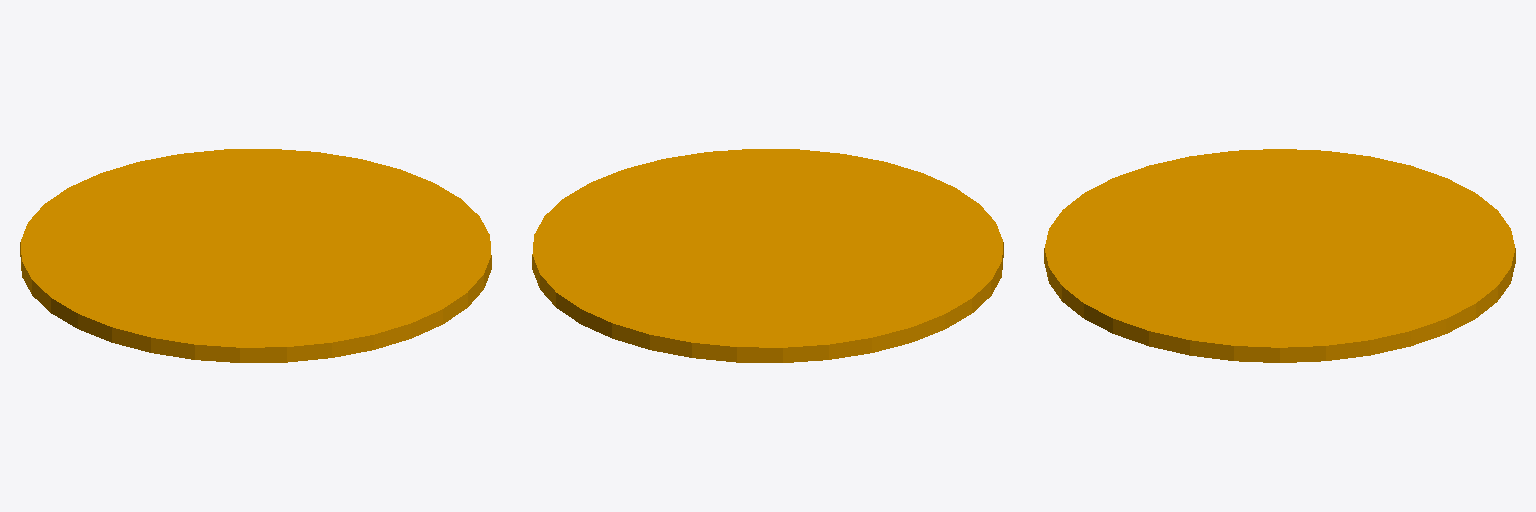
URDF robot description (PlanarRectangle_cylinder_outer):
<?xml version="1.0"?>
<robot name="PlanarRectangle_cylinder_outer">
 <link name="body">
  <inertial>
    <mass value="1"/>
    <inertia ixx="0.120833333333" ixy="0" ixz="0" iyy="0.120833333333" iyz="0" izz="0.120625"/>
  </inertial>
  <visual>
    <origin rpy="0 0 1.57" xyz="0 0 0"/>
    <geometry>
      <cylinder length="0.05" radius="0.694622199472"/>
    </geometry>
  </visual>
  <collision>
    <origin rpy="0 0 1.57" xyz="0 0 0"/>
    <geometry>
      <cylinder length="0.05" radius="0.694622199472"/>
    </geometry>
  </collision>
 </link>

  <klampt package_root="../../.." default_acc_max="4" >
  </klampt>
</robot>

--- Render facts (derived) ---
The picture shows the robot from 3 angles, left to right: view 1: azimuth 30°, elevation 25°; view 2: azimuth 150°, elevation 25°; view 3: azimuth 270°, elevation 25°; orthographic projection.
Robot: PlanarRectangle_cylinder_outer — 1 links, 0 joints (none); root link body; default pose: all joints at 0.
Visible links, largest first — view 1: body; view 2: body; view 3: body.
Link boxes in pixels (left/top/right/bottom): body: left=20, top=149, right=491, bottom=362; body: left=532, top=149, right=1003, bottom=362; body: left=1044, top=149, right=1515, bottom=362.
Size in the robot's own frame: 1.39 by 1.39 by 0.05 metres.
Geometry: primitives only (box / cylinder / sphere), no mesh files.